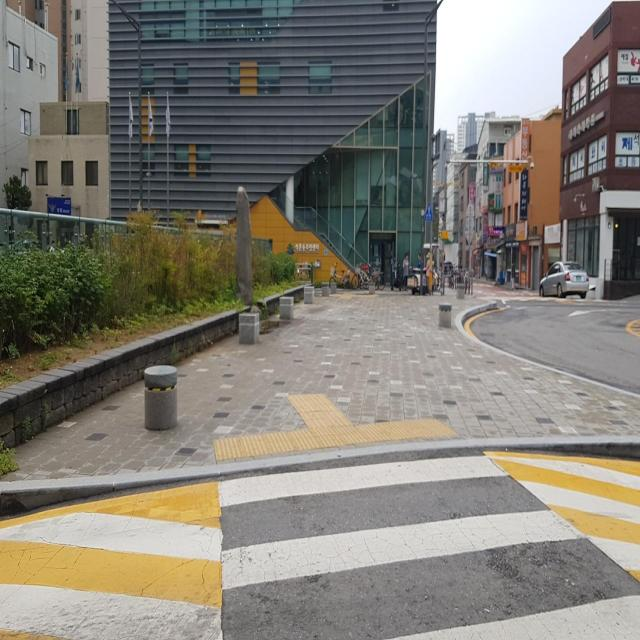횡단보도: (215, 450, 640, 640)
